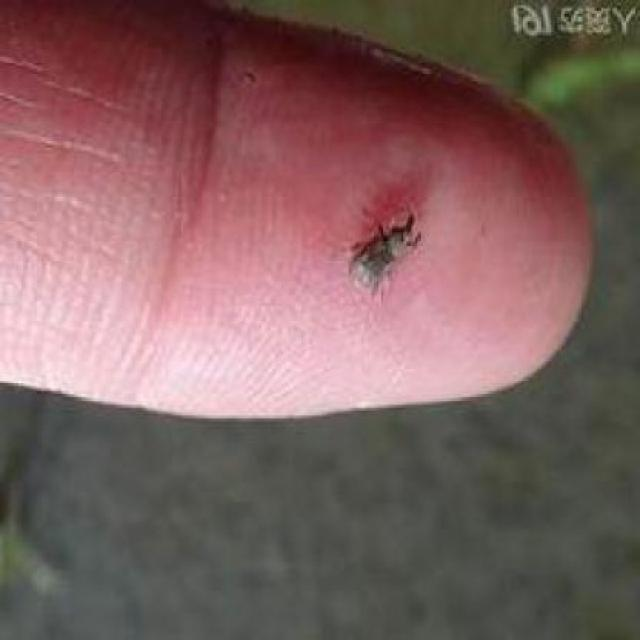rice-bug: (348, 208, 422, 298)
